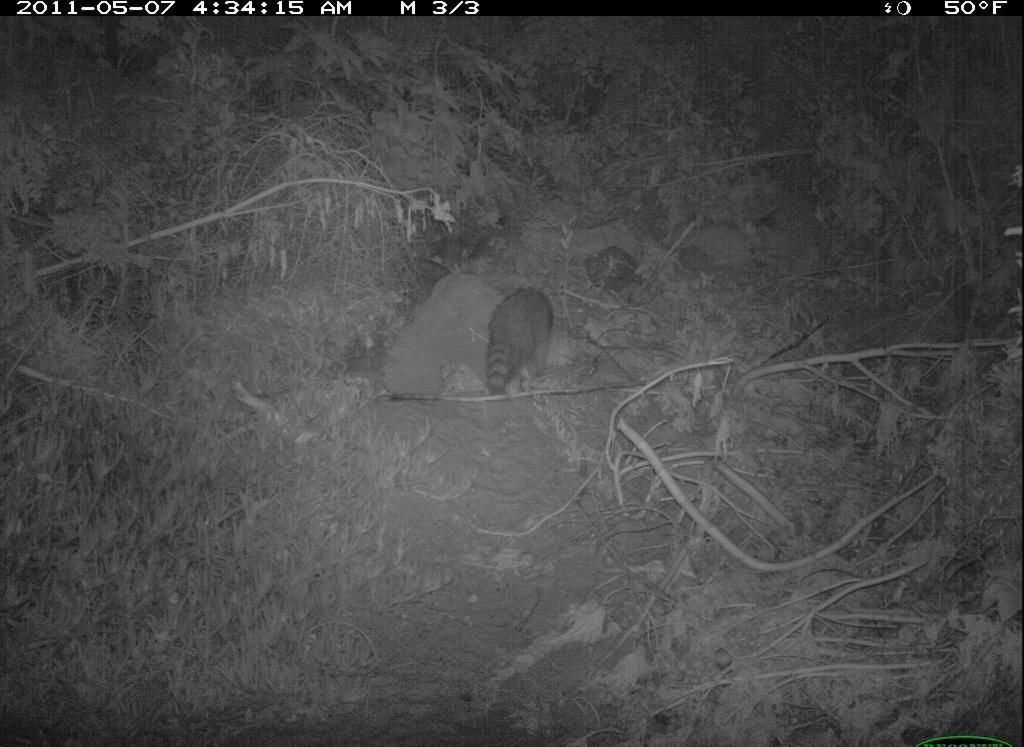raccoon: (478, 285, 561, 396)
